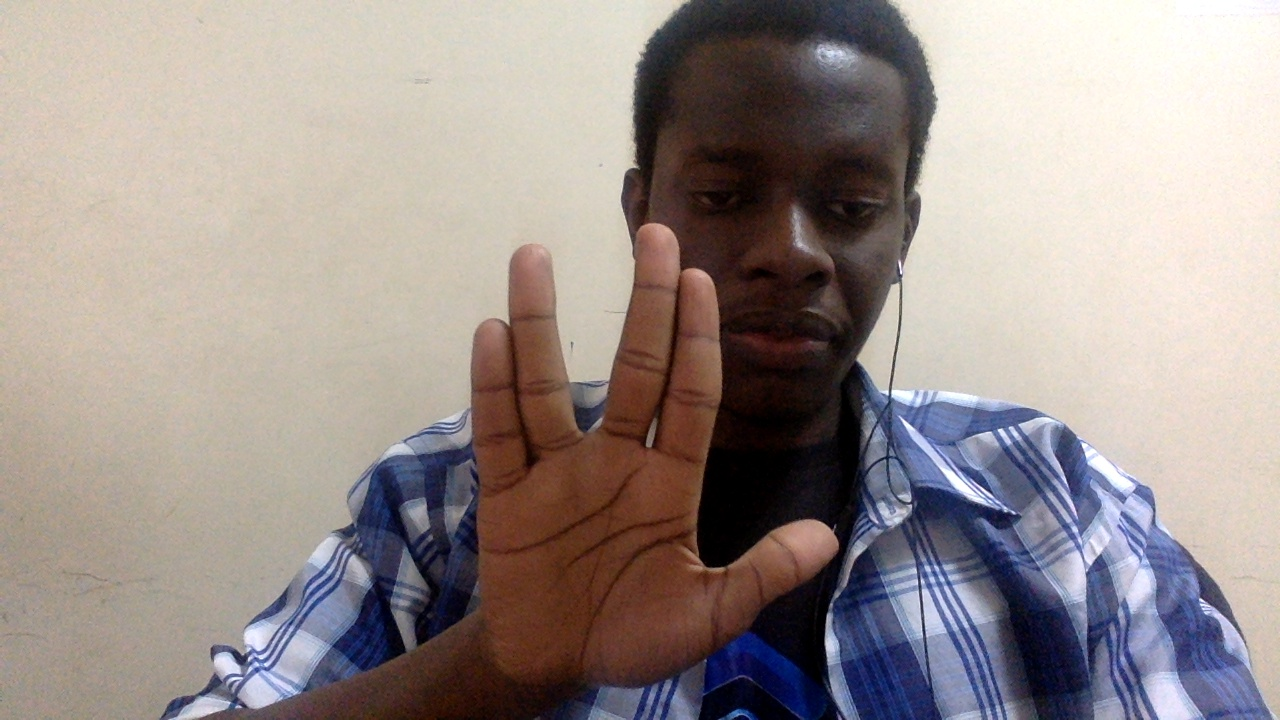LiveLong: (467, 221, 840, 692)
